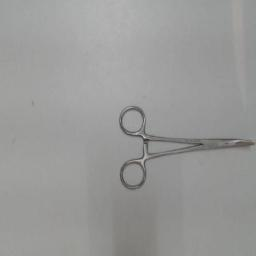Crile Artery Forceps: (118, 100, 254, 190)
